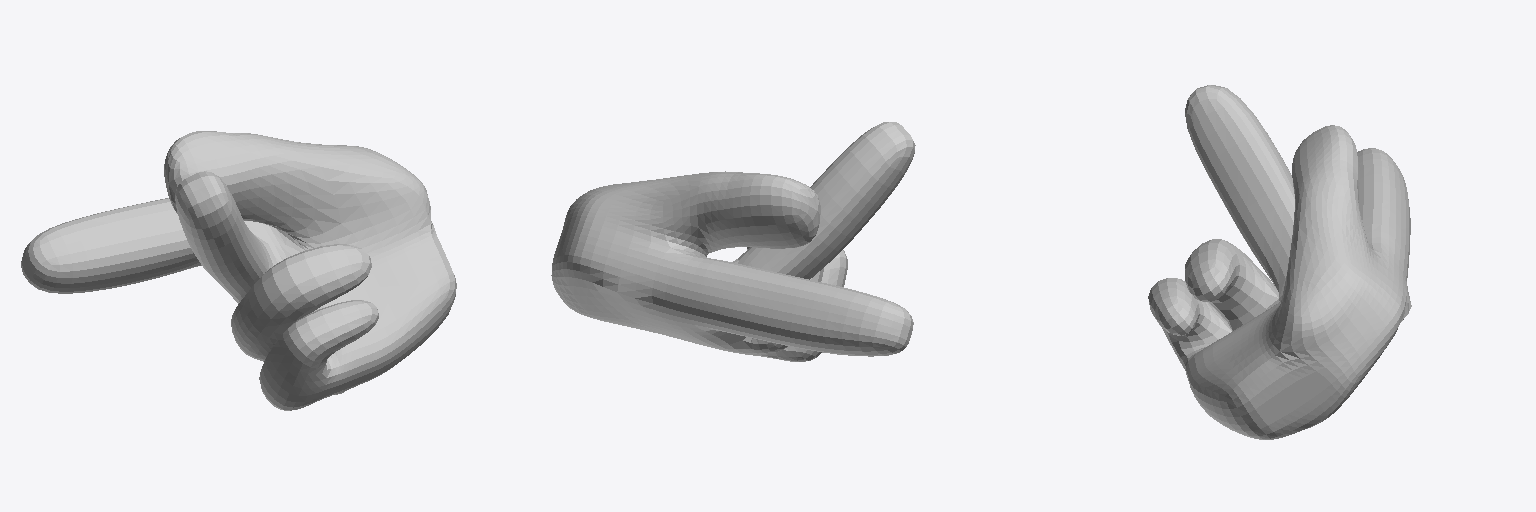
3 views of the same model, side by side, from view 1: azimuth 30°, elevation 25°; view 2: azimuth 150°, elevation 25°; view 3: azimuth 270°, elevation 25° (orthographic).
Visible parts, largest first — view 1: K_Hand; view 2: K_Hand; view 3: K_Hand.
Part boxes in pixels (x1,y1,x2,y2): K_Hand: (21,131,456,410); K_Hand: (551,122,915,361); K_Hand: (1148,85,1411,439).
Bounding box in the file's own units: 176 × 116 × 108.